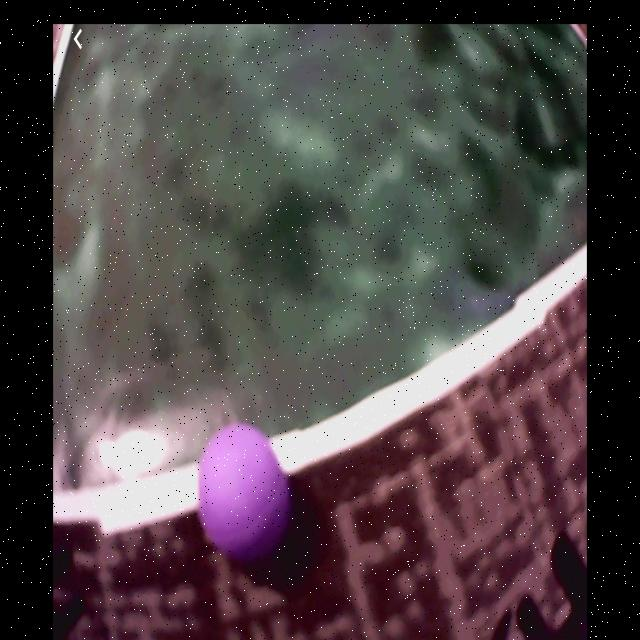ball: (199, 429, 285, 563)
